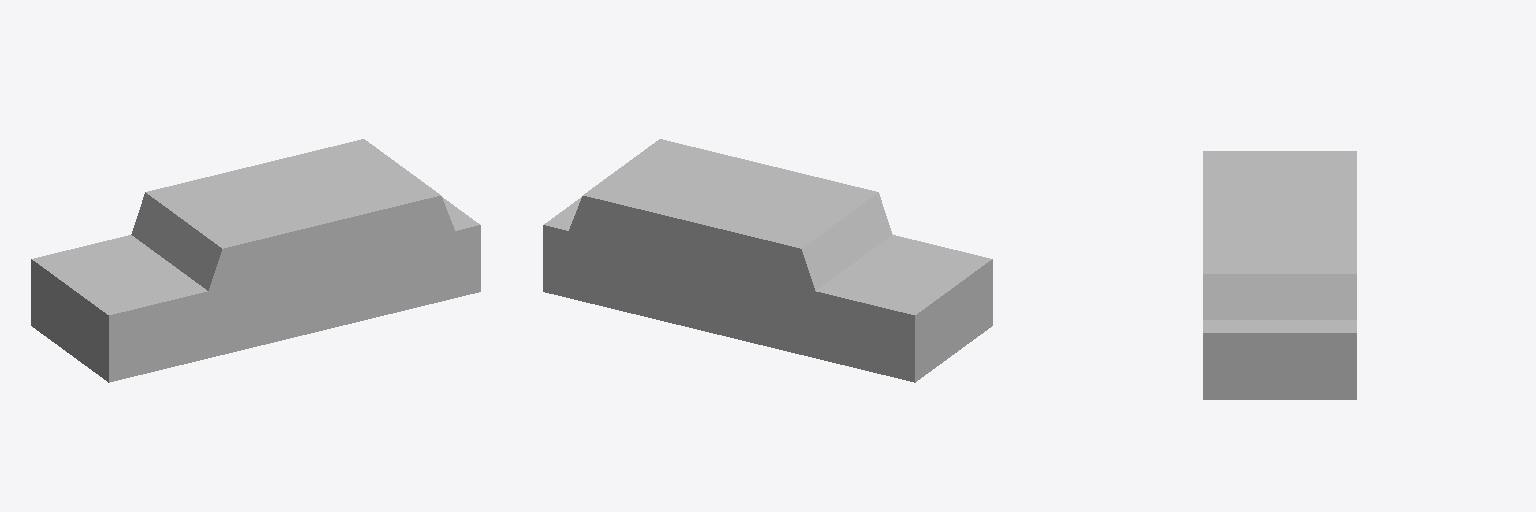
Rendered from car.obj.
3 views of the same model, side by side, from view 1: azimuth 30°, elevation 25°; view 2: azimuth 150°, elevation 25°; view 3: azimuth 270°, elevation 25° (orthographic).
Parts seen in each view (by area): view 1: Box001; view 2: Box001; view 3: Box001.
Boxes of the visible parts, x1=… form: Box001: x1=31, y1=139, x2=480, y2=382; Box001: x1=543, y1=139, x2=992, y2=382; Box001: x1=1203, y1=151, x2=1356, y2=399.
Size of the model in its own units: 270 by 73.86 by 97.4.